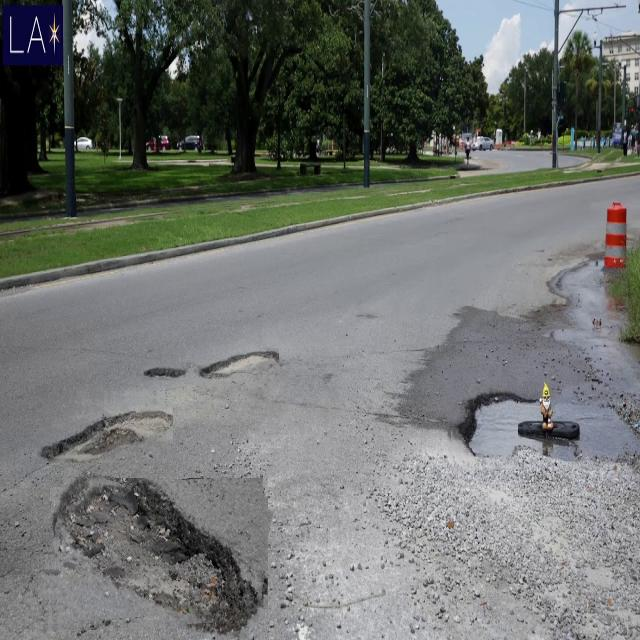Pothole: (43, 478, 268, 632), (37, 390, 173, 463), (446, 365, 518, 471), (196, 335, 280, 395), (144, 346, 186, 381)
